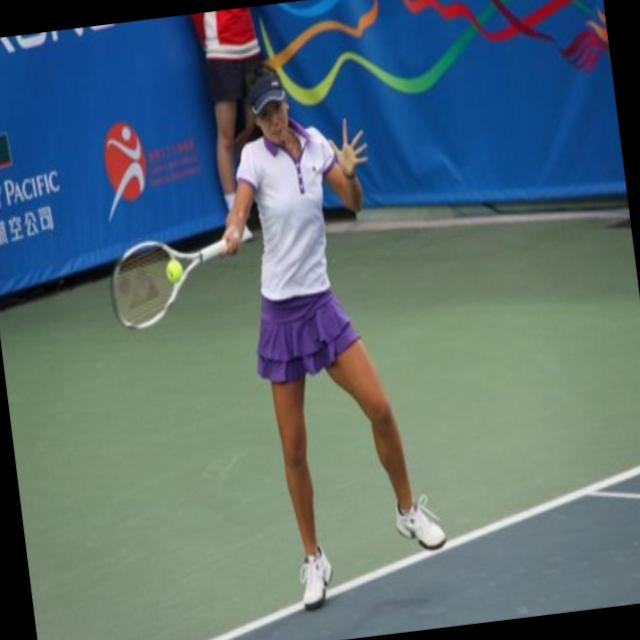Tennis Ball: (164, 257, 183, 280)
